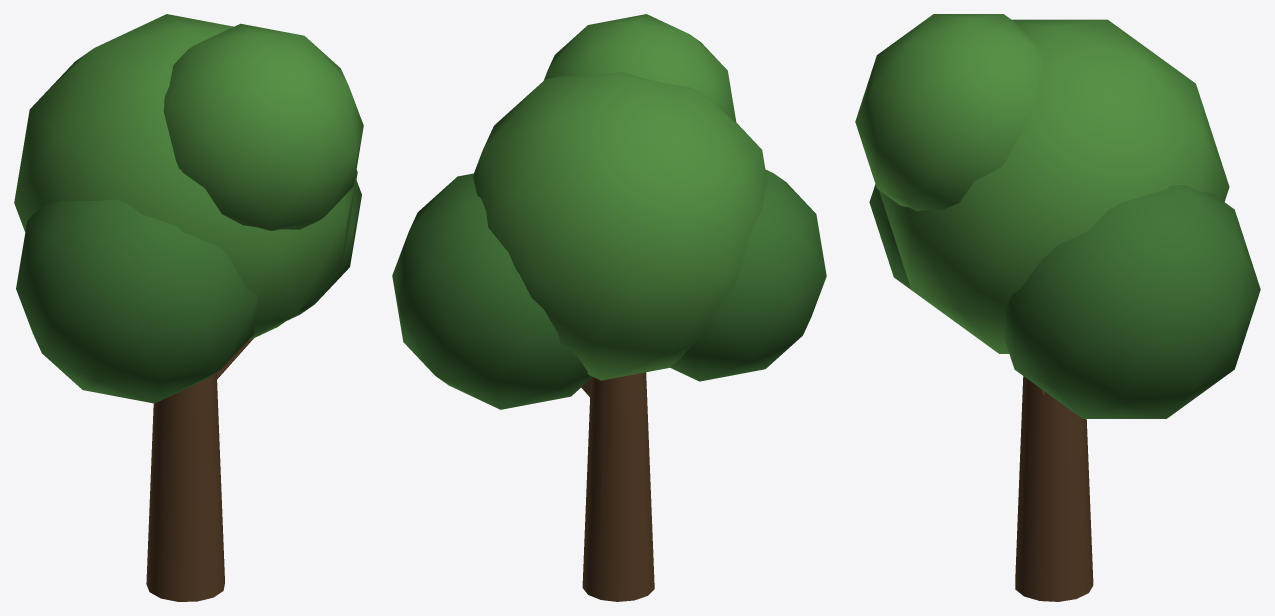
Rendered from oak.glb.
3 renders of one model, left to right at view 1: azimuth 30°, elevation 25°; view 2: azimuth 150°, elevation 25°; view 3: azimuth 270°, elevation 25°, orthographic. The views are drawn at different scales.
Parts seen in each view (by area): view 1: tree; view 2: tree; view 3: tree.
Boxes of the visible parts, x1=… form: tree: x1=14, y1=14, x2=363, y2=601; tree: x1=392, y1=14, x2=826, y2=601; tree: x1=855, y1=14, x2=1260, y2=601.
Bounding box in the file's own units: 1.5 × 2.25 × 1.43.
